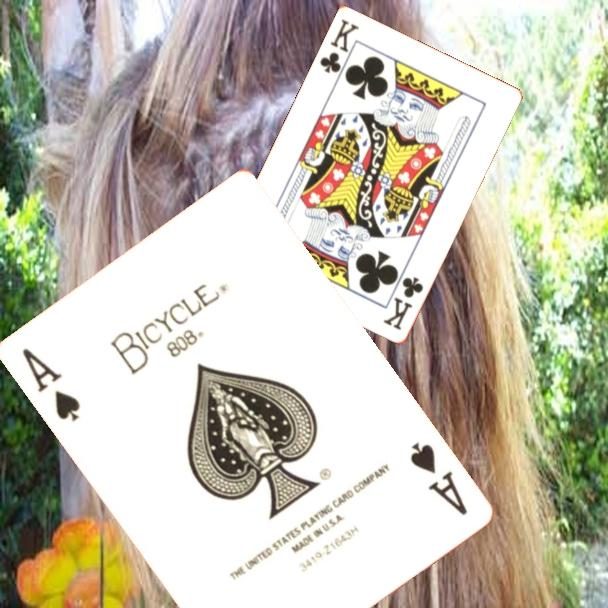c13: (316, 16, 362, 77), (380, 274, 426, 334)
s01: (17, 344, 83, 425), (406, 438, 470, 518)
